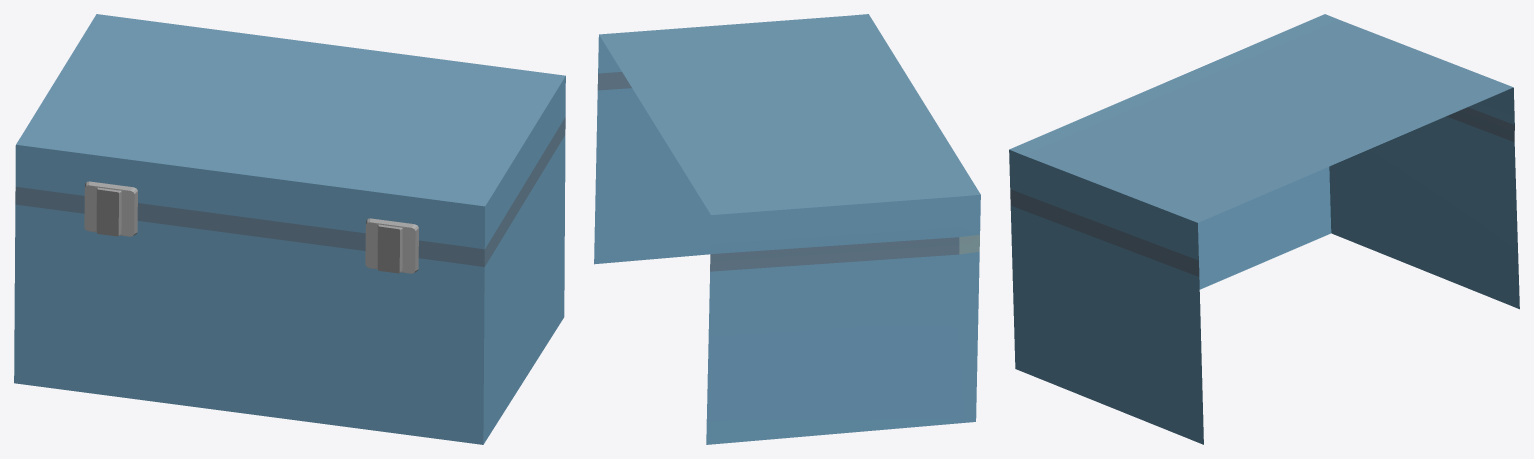
Rendered from MSH_QuestObject_box_02.fbx.
3 renders of one model, left to right at view 1: azimuth 30°, elevation 25°; view 2: azimuth 150°, elevation 25°; view 3: azimuth 270°, elevation 25°, orthographic. The views are drawn at different scales.
Parts seen in each view (by area): view 1: MSH_QuestObject_box_02; view 2: MSH_QuestObject_box_02; view 3: MSH_QuestObject_box_02.
Part boxes in pixels (x1,y1,x2,y2): MSH_QuestObject_box_02: [14, 14, 565, 444]; MSH_QuestObject_box_02: [594, 14, 980, 444]; MSH_QuestObject_box_02: [1009, 14, 1519, 444].
Bounding box in the file's own units: 1.6 × 0.8146 × 1.62.
